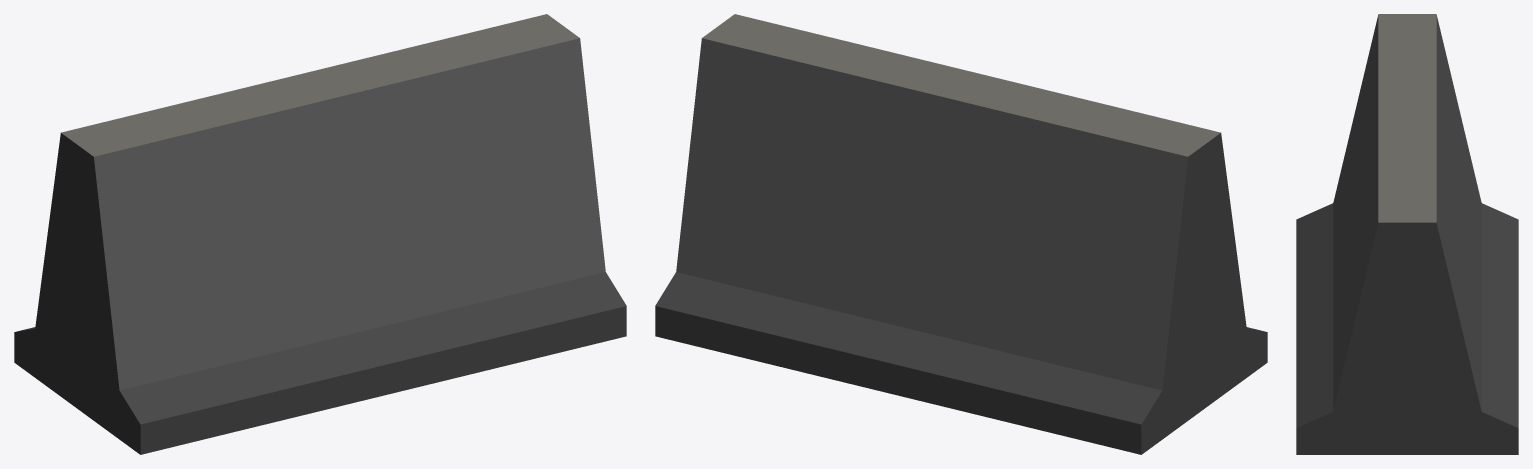
File: Barricade_3.FBX
3 views of the same model, side by side, from view 1: azimuth 30°, elevation 25°; view 2: azimuth 150°, elevation 25°; view 3: azimuth 270°, elevation 25° (orthographic). The views are drawn at different scales.
Visible parts, largest first — view 1: barricade_3; view 2: barricade_3; view 3: barricade_3.
Boxes of the visible parts, x1,y1,x2,y2 form: barricade_3: [14, 14, 626, 454]; barricade_3: [655, 14, 1267, 454]; barricade_3: [1296, 14, 1518, 454].
Bounding box in the file's own units: 1.26 × 0.652 × 0.5655.
1 material, 1 textured.
